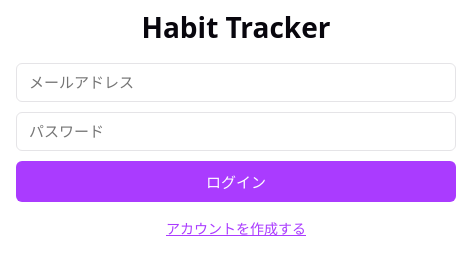
Test: LoginForm › 送信中は送信ボタンを無効化する
The image size is (473, 253).
In the field labelled "メールアドレス": (236, 83) top-left (16, 63), bottom-right (456, 102), type "a@example.com"
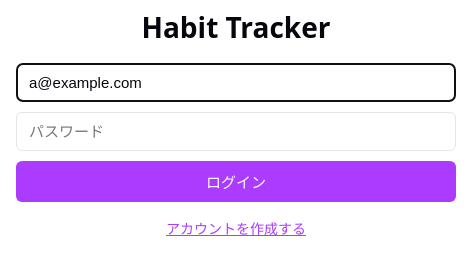
In the password field labelled "パスワード": (236, 132) top-left (16, 112), bottom-right (456, 151), type "password123"
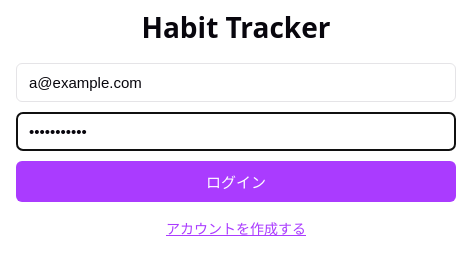
Click the button "ログイン": (236, 182) top-left (16, 161), bottom-right (456, 202)
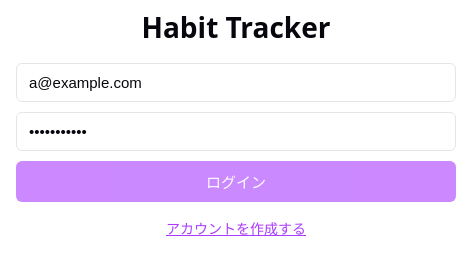
Result: the button "ログイン" is disabled at top-left (16, 161), bottom-right (456, 202)
